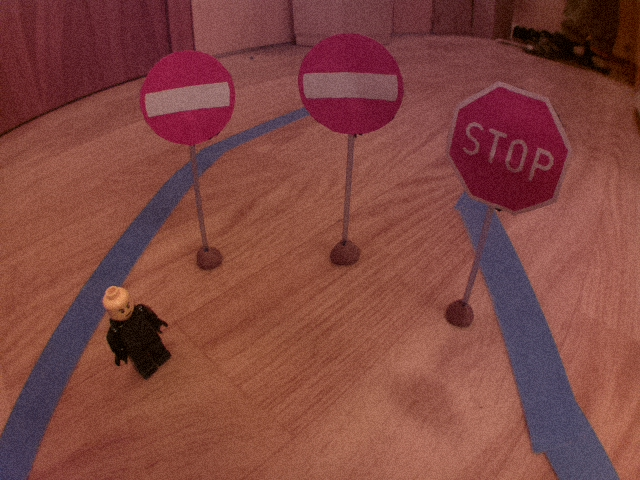LEGO_person: (100, 283, 179, 384)
stop: (442, 79, 578, 220)
zakaz: (295, 29, 409, 140), (138, 47, 239, 147)
